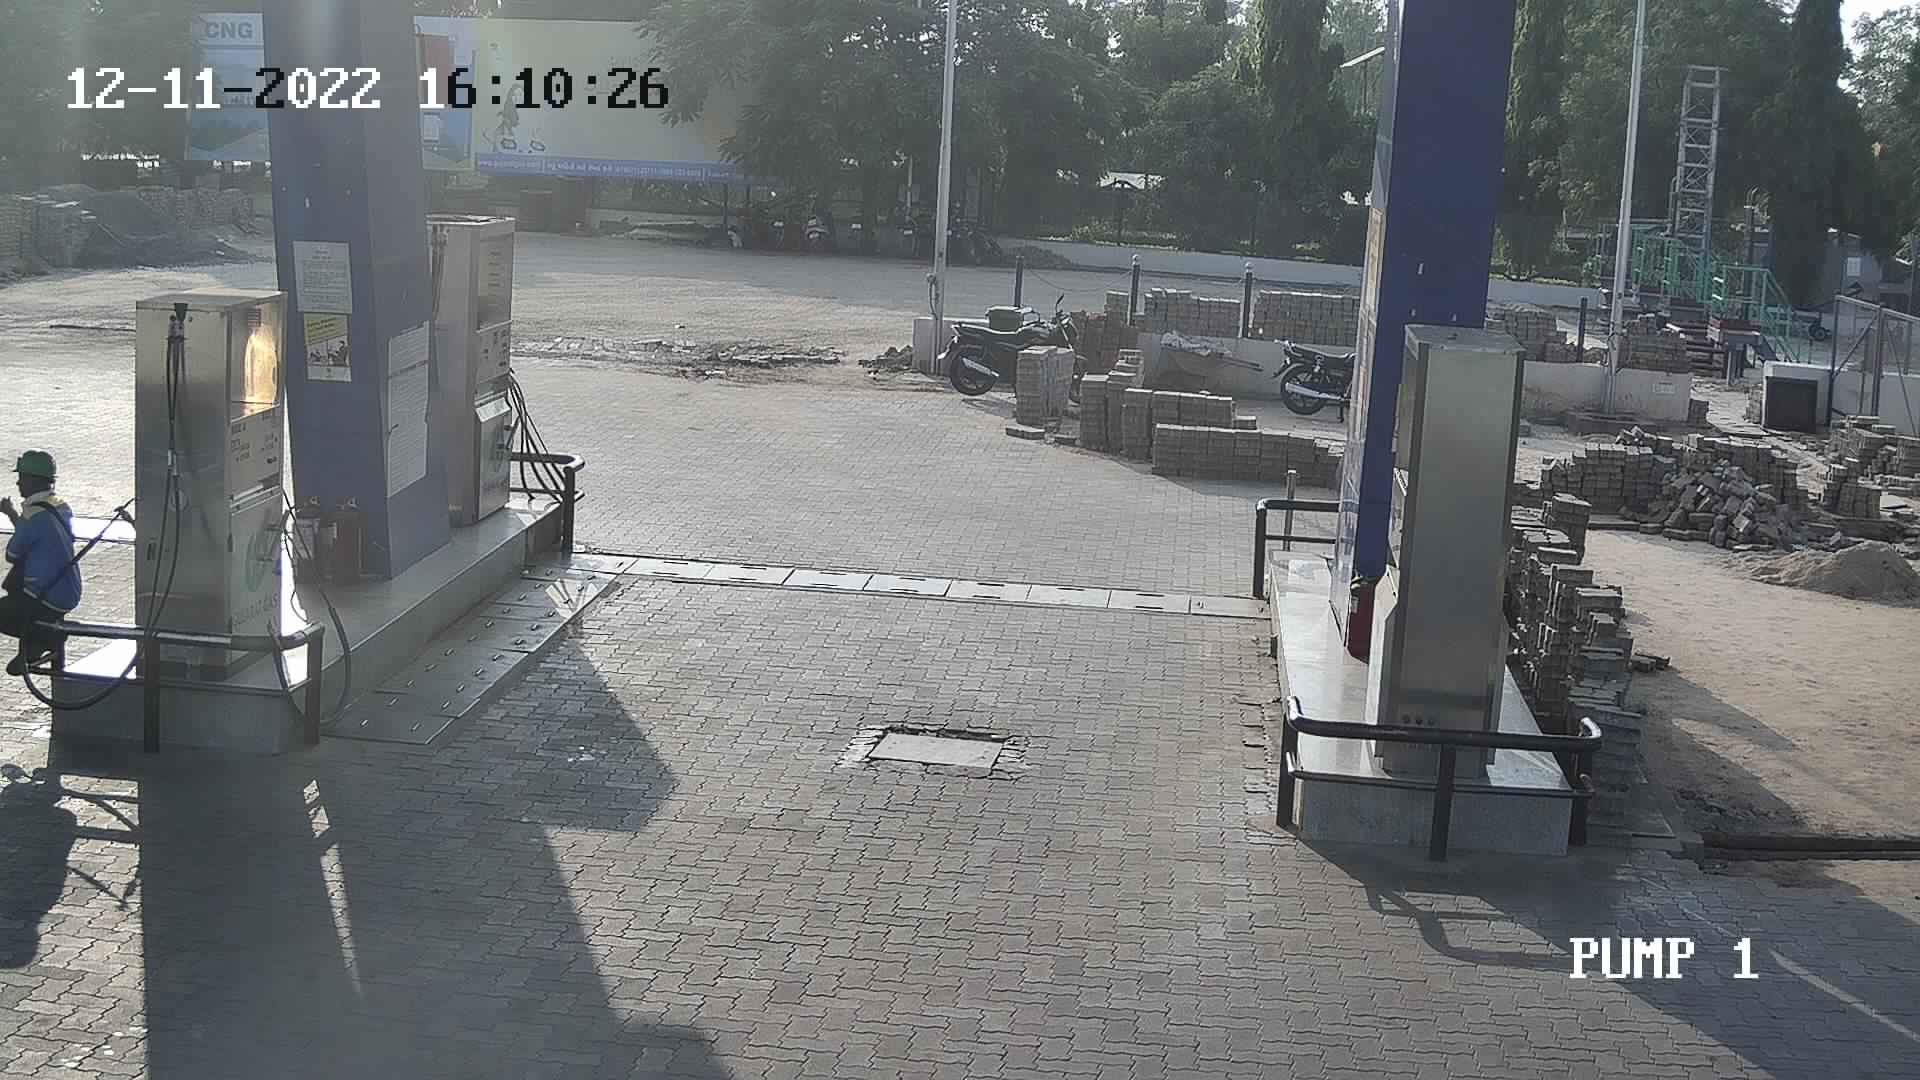Bike: (924, 286, 1109, 431), (1259, 320, 1361, 429), (936, 186, 1009, 274), (731, 181, 789, 252), (885, 182, 927, 262), (795, 181, 840, 255), (837, 191, 878, 255), (765, 191, 806, 252)
Others: (0, 446, 84, 680)
